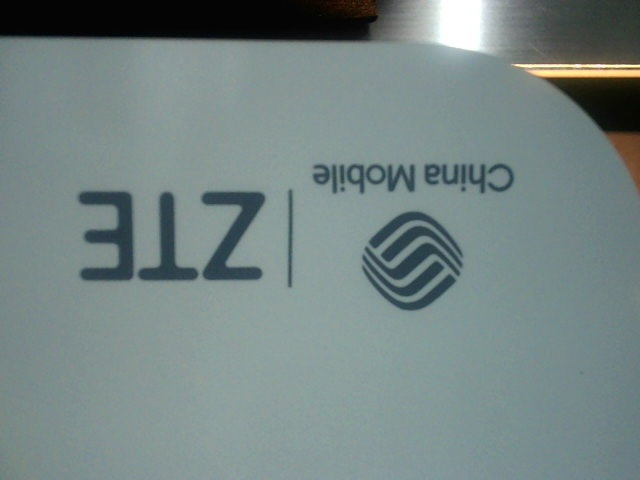AL_ZTEChinaMobile: (73, 155, 525, 316)
